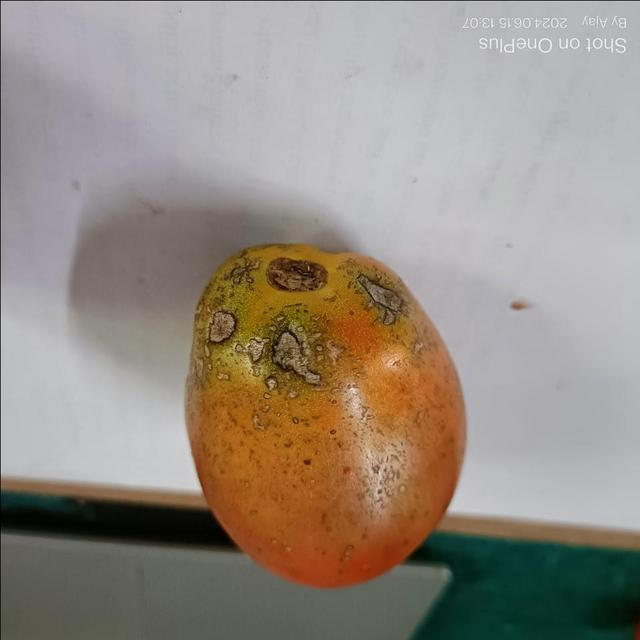Bacterial Spot Fruit: (23, 22, 256, 236)
